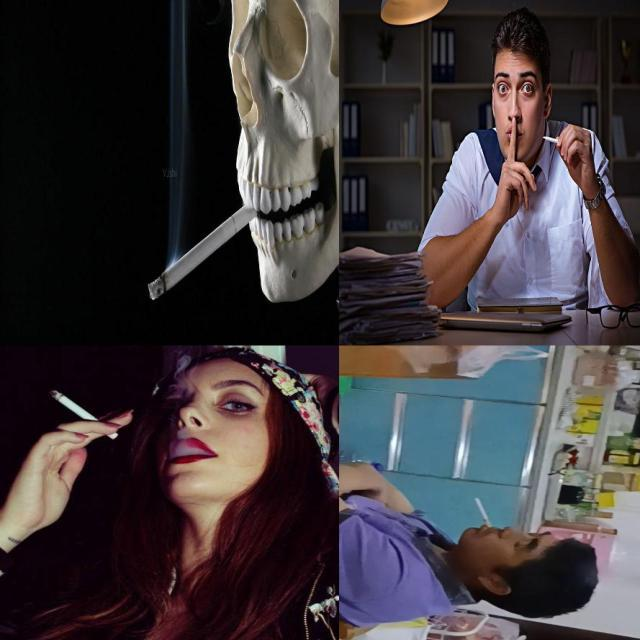smoking: (148, 202, 258, 302), (43, 388, 119, 442), (474, 498, 492, 528), (541, 136, 563, 146)
